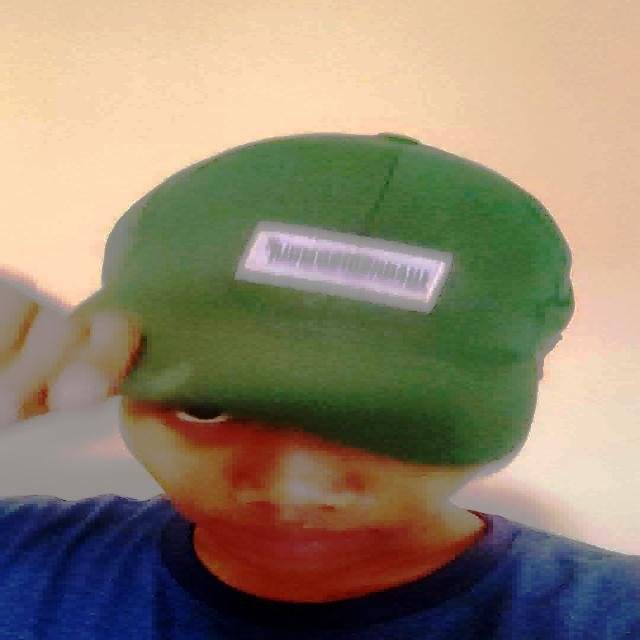TOPI: (63, 123, 584, 482)
